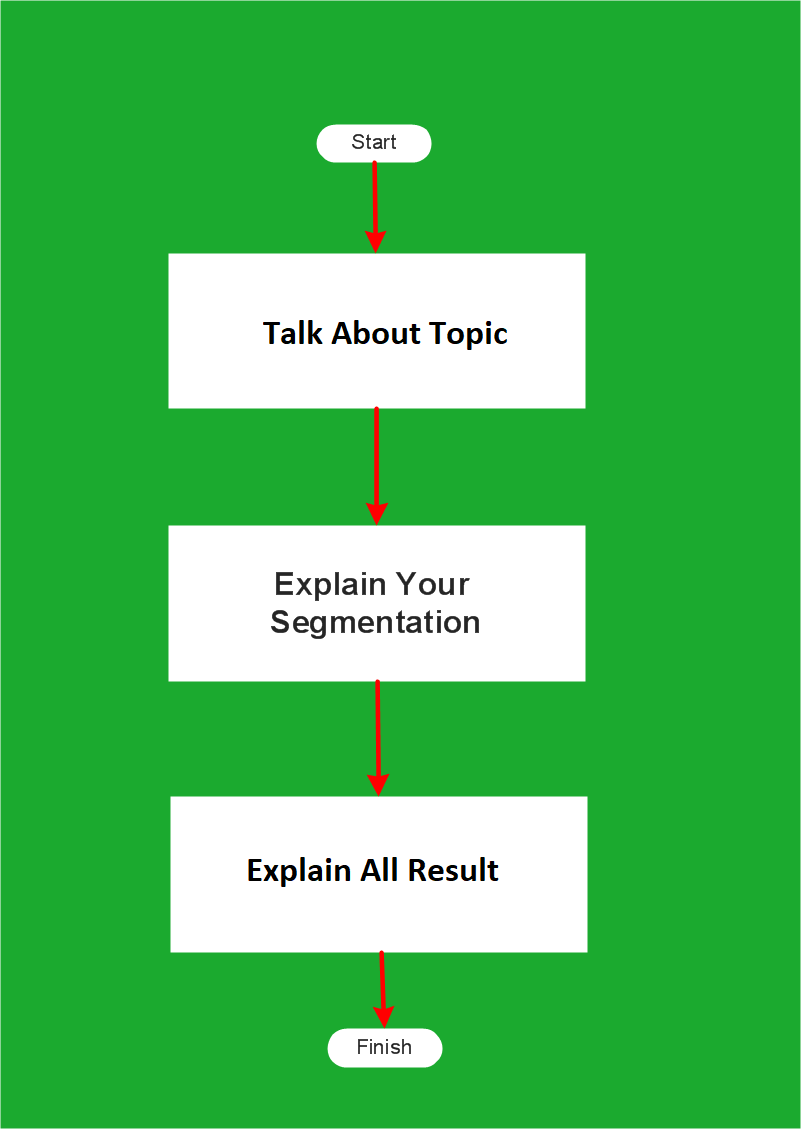arrow: (366, 681, 391, 793), (365, 410, 385, 526), (363, 164, 389, 252), (370, 955, 392, 1026)
process: (165, 248, 594, 417), (166, 791, 594, 960), (161, 521, 594, 686)
terminator: (313, 119, 437, 169), (323, 1024, 446, 1074)
text: (268, 562, 482, 645), (237, 846, 501, 891), (258, 315, 510, 355), (353, 1034, 418, 1060), (346, 127, 404, 155)
